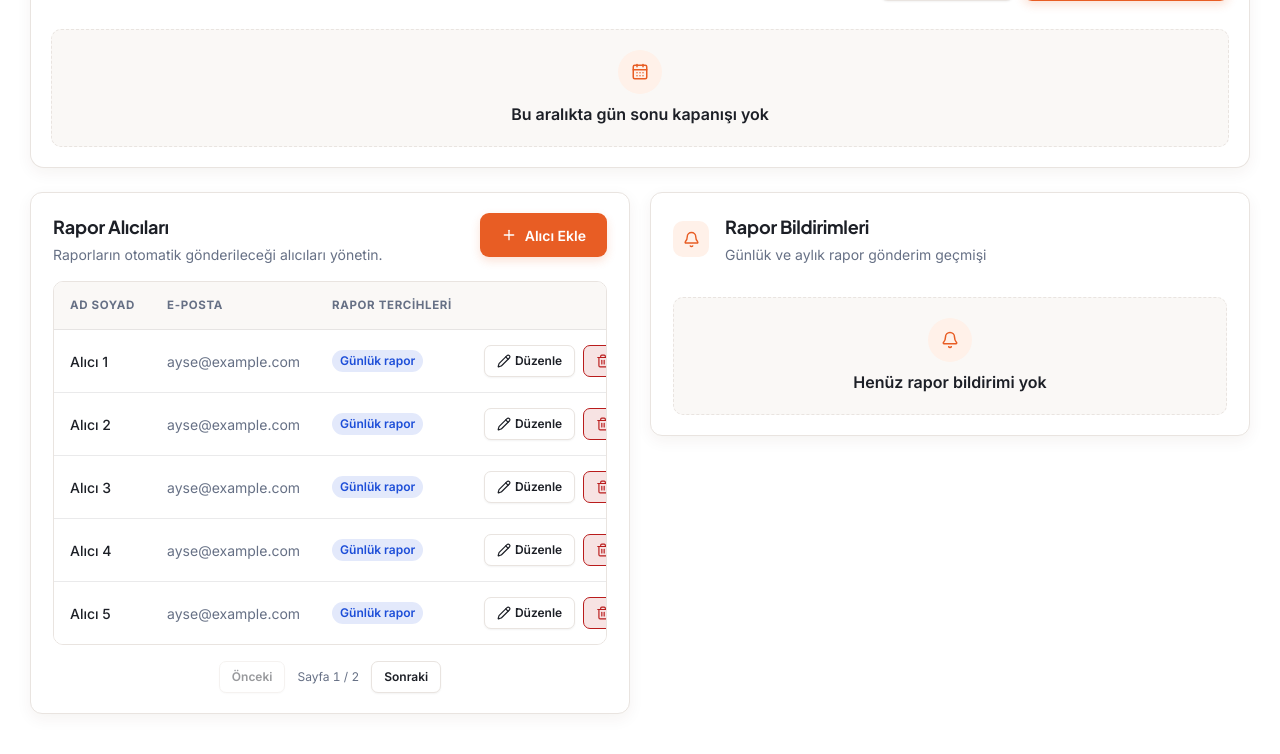
Test: BranchReportPage - Rapor Alıcıları pagination › shows at most 5 contact rows per page and paginates the rest
This screenshot has width=1280, height=754.
(page scrolled)
Expected: the text "Alıcı 1" is shown, [54,330,151,393]
Expected: the text "Alıcı 5" is shown, [54,582,151,644]
Click the button "Sonraki" at x=406, y=677, box [371,661,441,693]
(page scrolled)
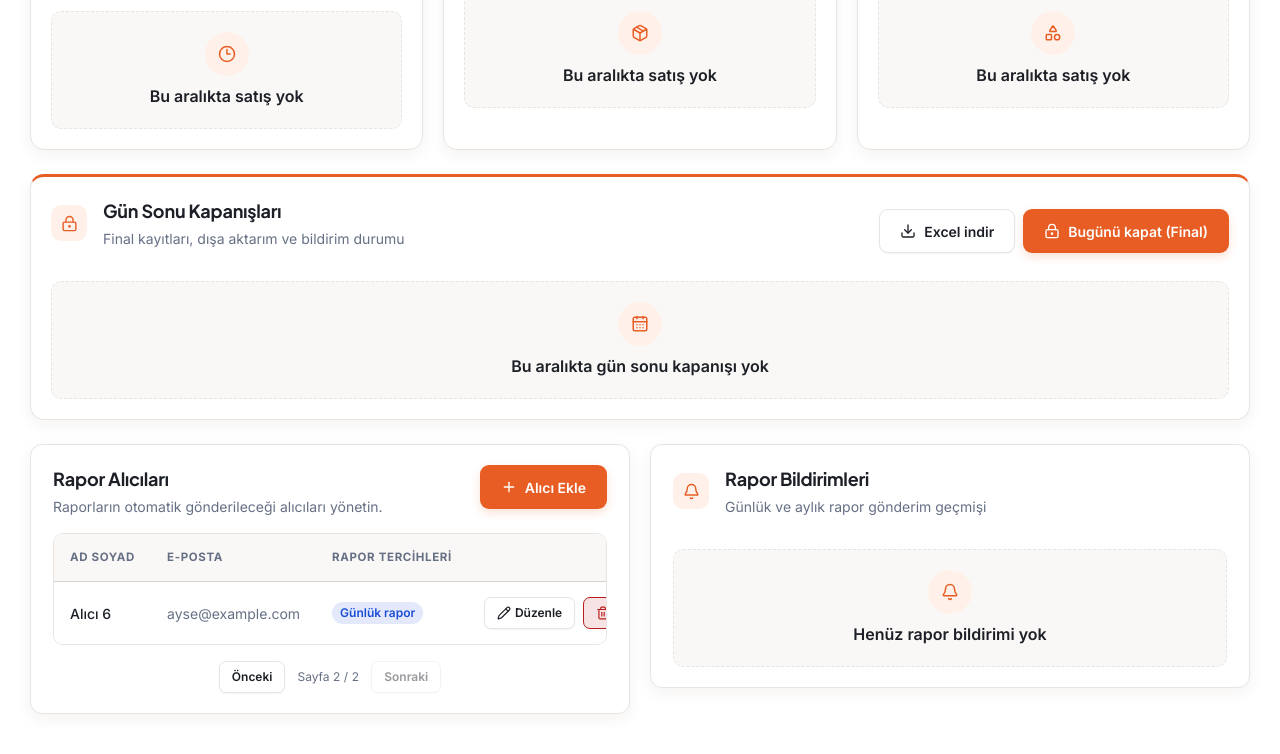
Result: the text "Alıcı 6" is shown at [54,582,151,644]
Result: the text "Alıcı 1" is gone
